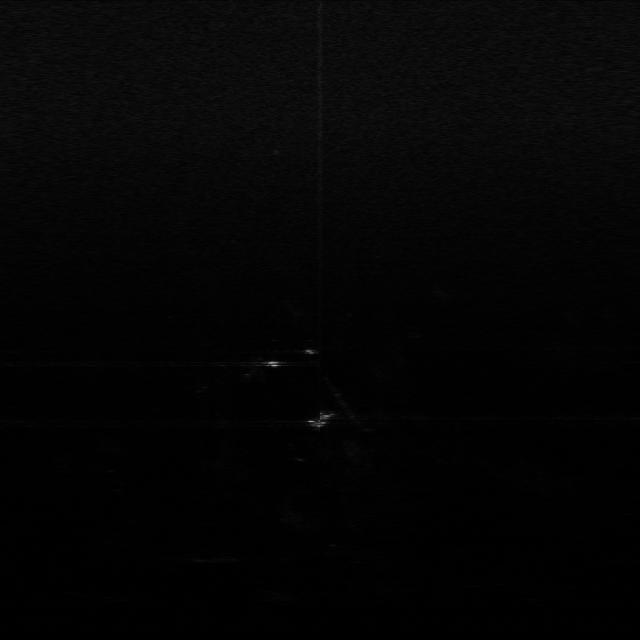rov: (300, 408, 342, 435)
